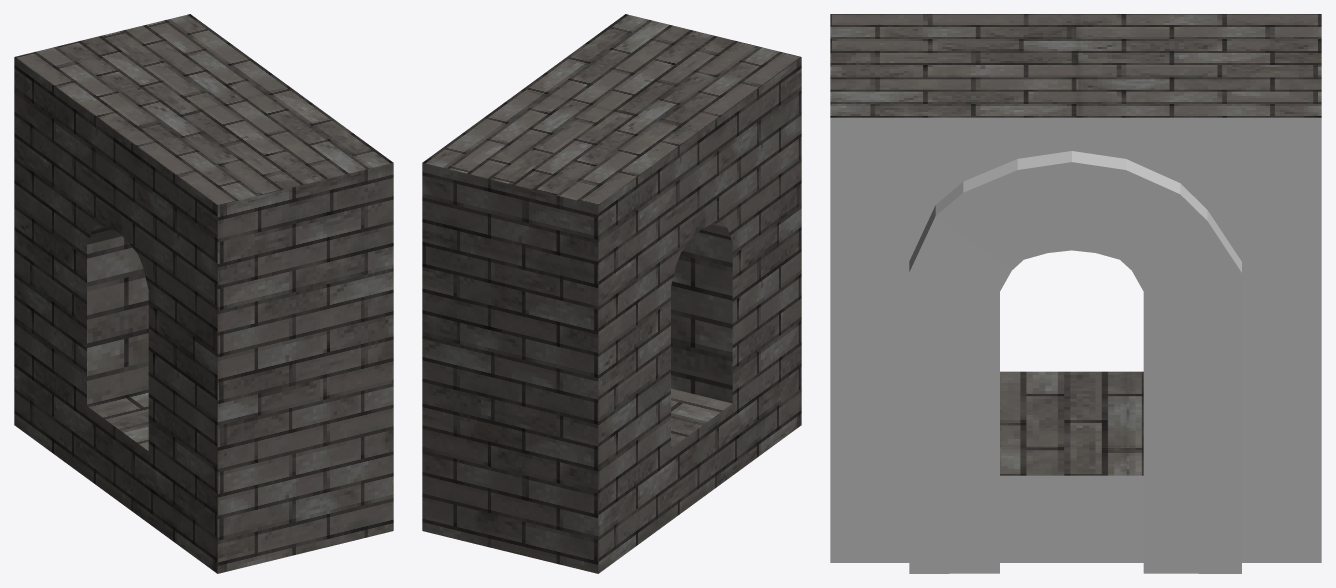
The model's file is S_WallBrickWindow 1.fbx.
3 views of the same model, side by side, from view 1: azimuth 30°, elevation 25°; view 2: azimuth 150°, elevation 25°; view 3: azimuth 270°, elevation 25° (orthographic). The views are drawn at different scales.
Visible parts, largest first — view 1: Cube.001; view 2: Cube.001; view 3: Cube.001.
Boxes of the visible parts, left/top/right/bottom form: Cube.001: left=14, top=14, right=393, bottom=573; Cube.001: left=422, top=14, right=801, bottom=573; Cube.001: left=830, top=14, right=1321, bottom=573.
Size of the model in its own units: 221 by 400 by 400.
